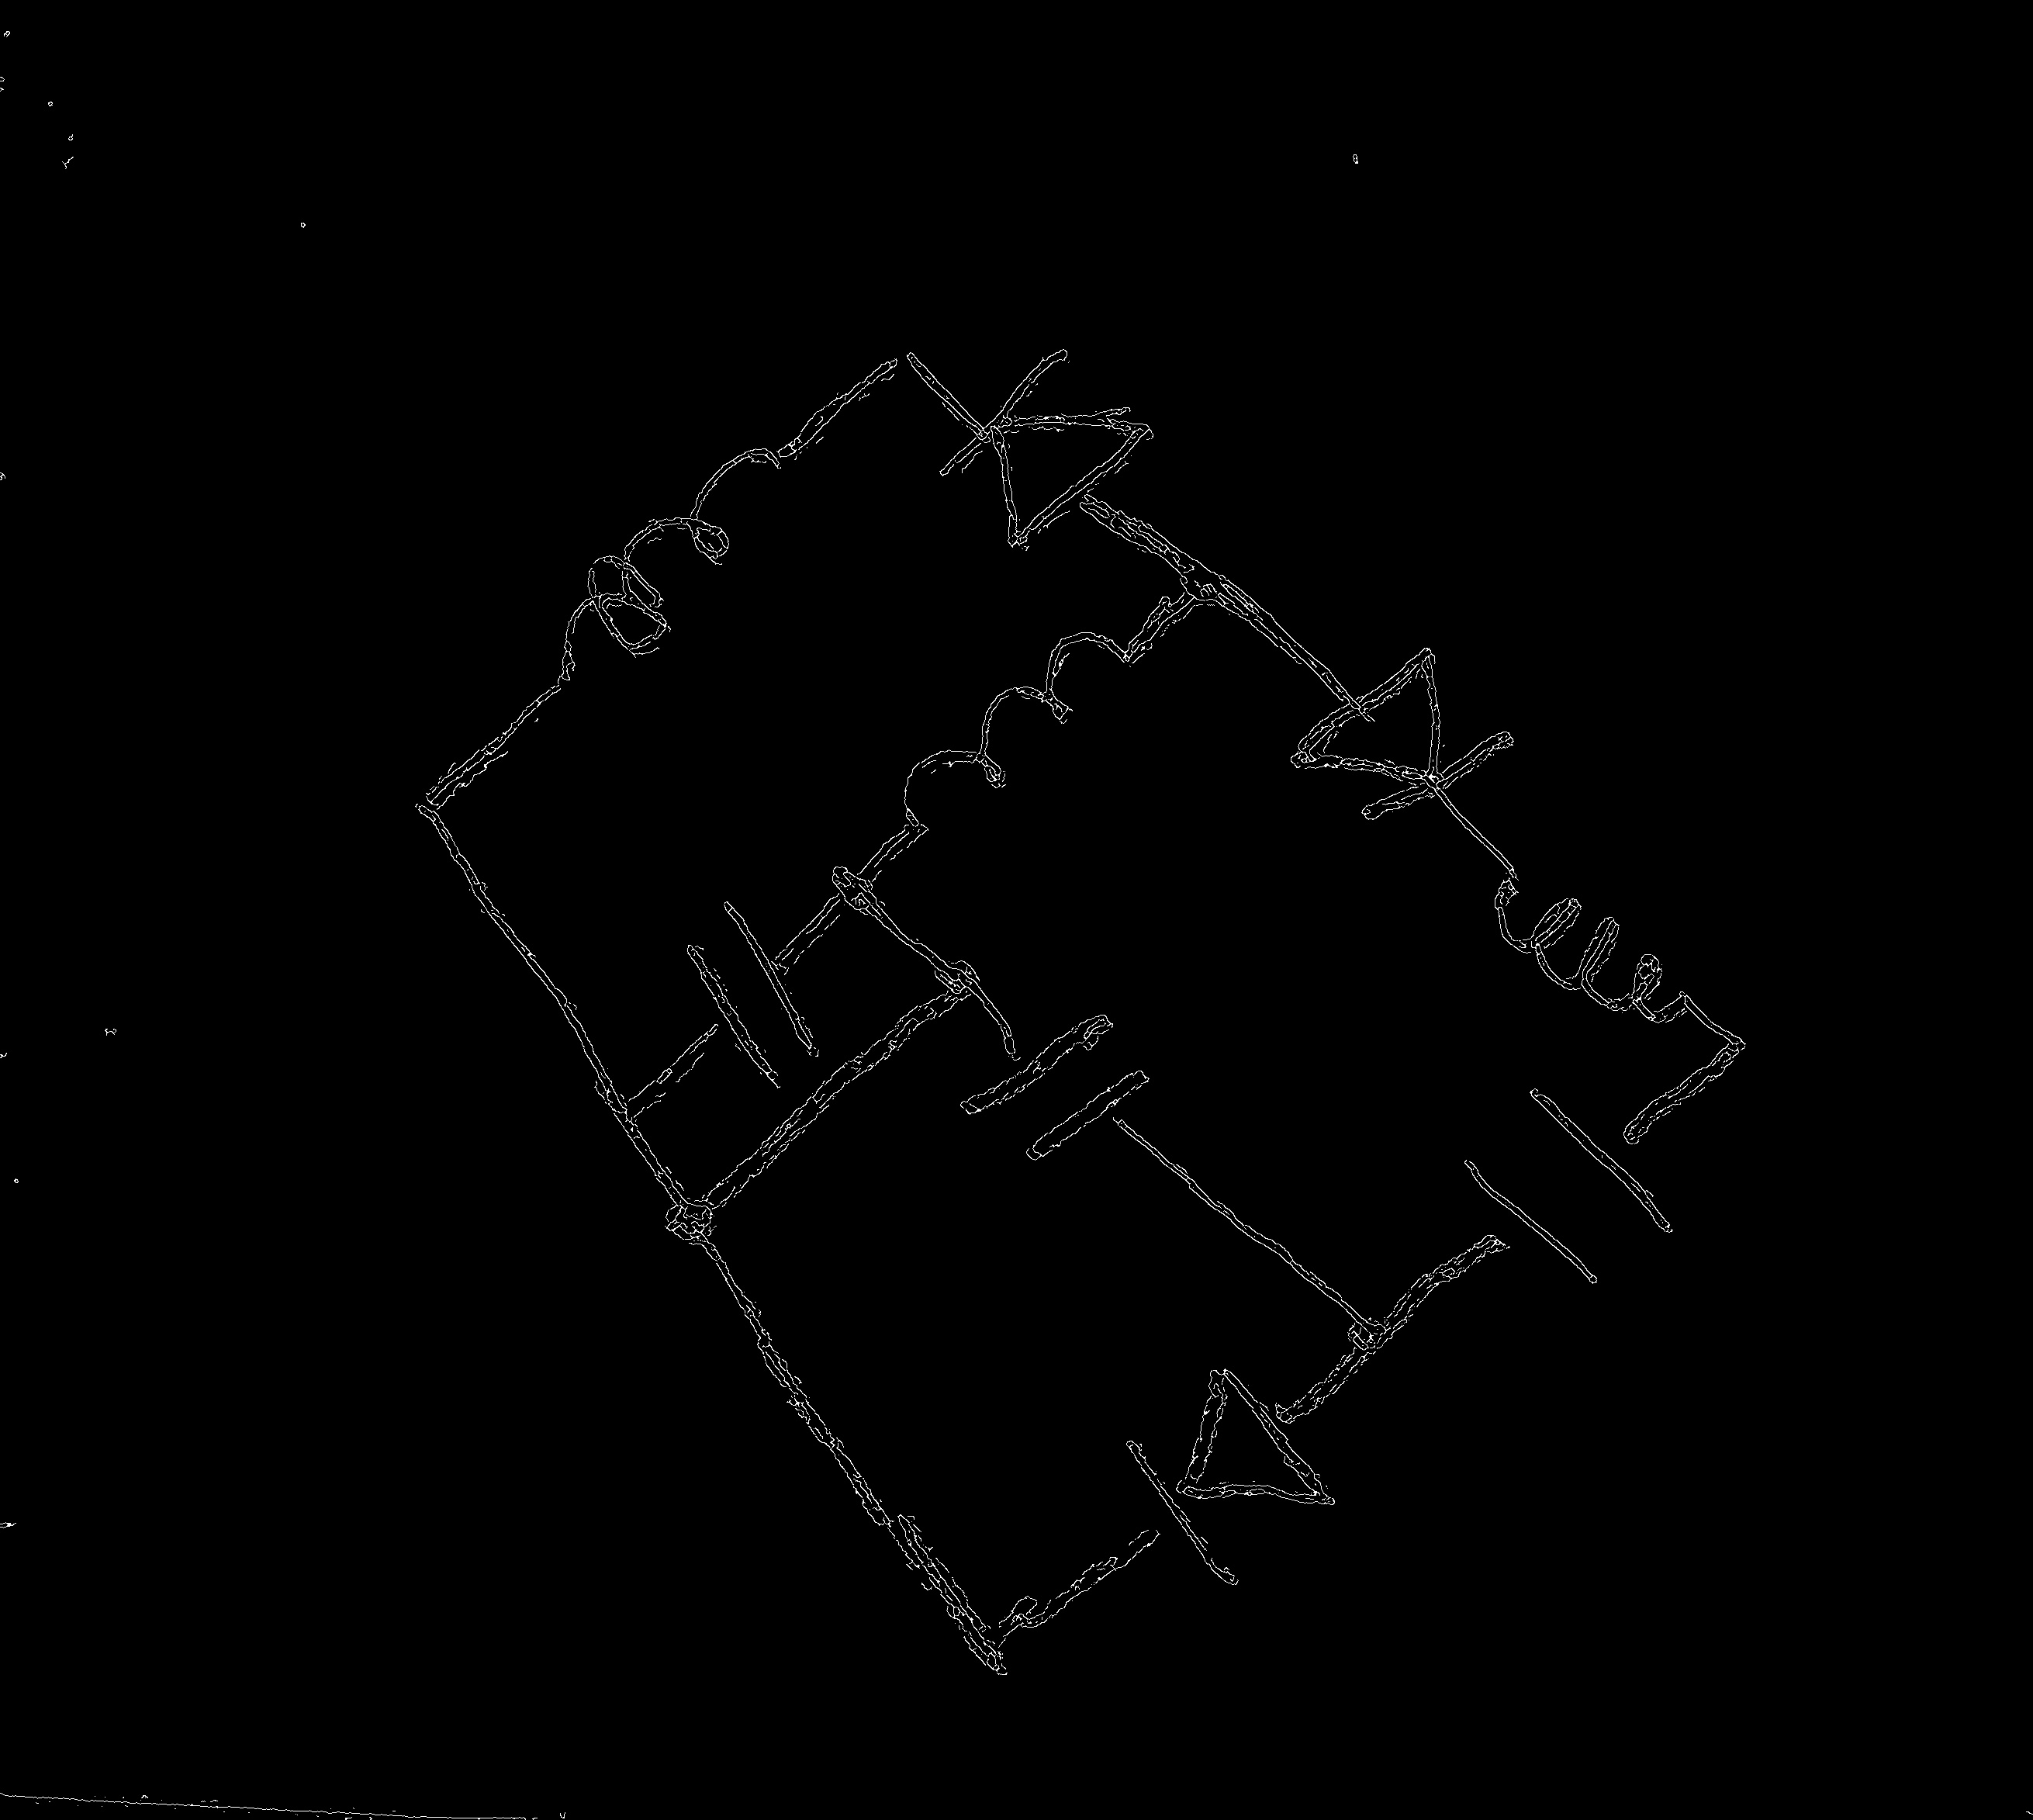capacitor: (1464, 1074, 1686, 1297), (948, 1001, 1159, 1174), (676, 892, 827, 1099)
diode: (1118, 1349, 1343, 1597), (925, 334, 1170, 554), (1274, 627, 1520, 833)
inductor: (524, 428, 820, 710), (887, 613, 1159, 845), (1468, 826, 1717, 1034)
